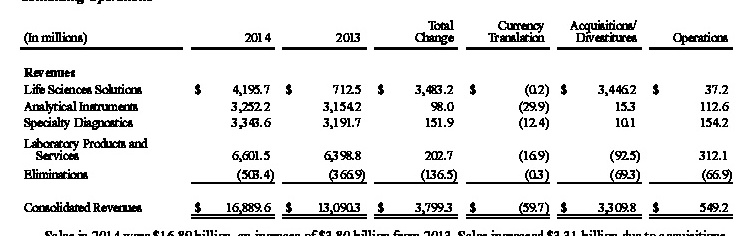table: (0, 0, 750, 236)
